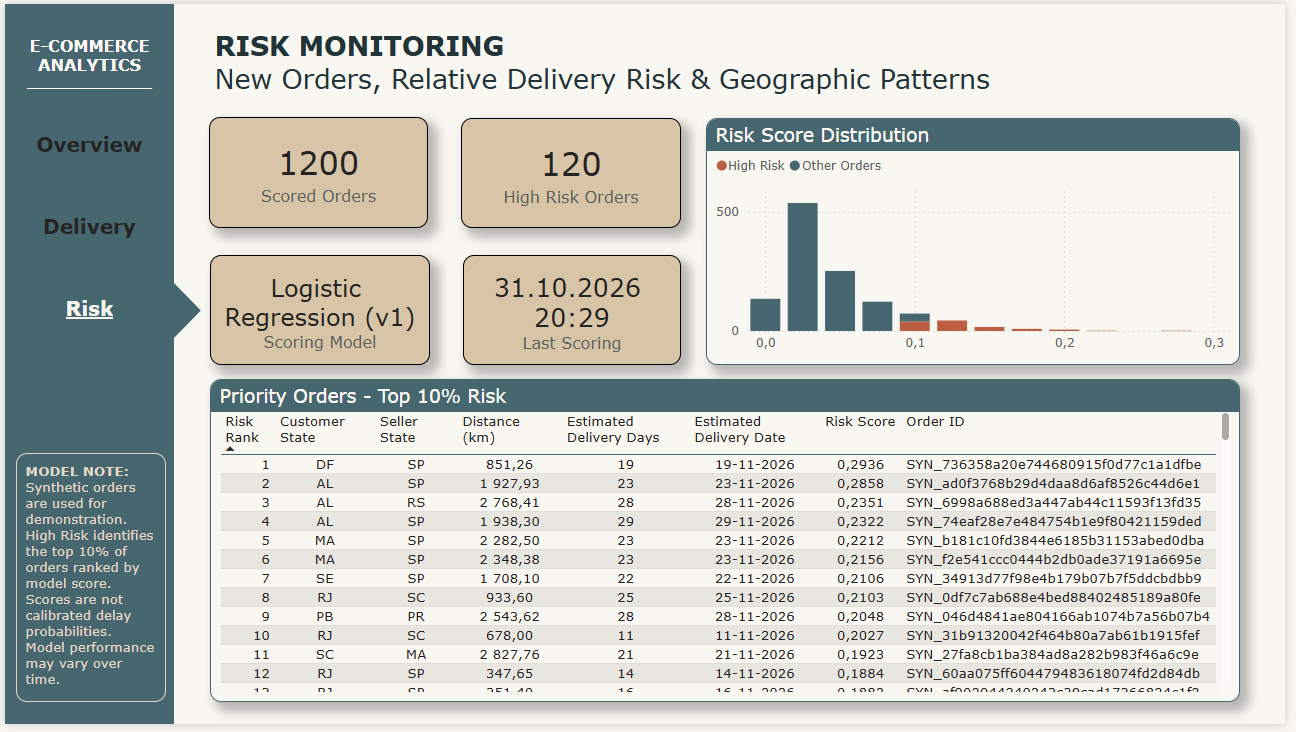

This screenshot's page, from the dashboard's own definition file:
{"tool":"powerbi","page":{"name":"Risk","canvas":[1280,720],"ordinal":2},"visuals":[{"type":"group","id":"g1","title":"Grupa 2","box":[0,0,195.5,720.4],"z":0},{"type":"shape","box":[127.4,271.4,68.2,70.8],"z":0,"group":"g1"},{"type":"shape","box":[0,0,168.5,720.4],"z":1000,"group":"g1"},{"type":"card","fields":{"Values":["_Measures.Scored Orders"]},"box":[203.9,113.3,219.5,110.4],"z":1000},{"type":"textbox","box":[205,20,856.2,83.8],"z":2000},{"type":"group","id":"g2","title":"Grupa 1","box":[16.7,27,136.4,70.8],"z":2000,"group":"g1"},{"type":"textbox","box":[16.7,27,136.4,69.5],"z":2000,"group":"g2"},{"type":"textbox","box":[16.7,61.7,136.4,36],"z":3000,"group":"g2"},{"type":"pageNavigator","box":[16.7,104.2,136.4,238],"z":3000,"group":"g1"},{"type":"card","fields":{"Values":["_Measures.High Risk Orders"]},"box":[456.2,113.8,220,110],"z":3000},{"type":"card","fields":{"Values":["_Measures.Scoring Model"]},"box":[205,251.2,220,110],"z":4000},{"type":"columnChart","title":"Risk Score Distribution","fields":{"Category":["RiskMonitoring.Risk Score Bins"],"Y":["_Measures.Scored Orders"],"Series":["RiskMonitoring.risk_category"]},"box":[701.2,113.8,533.8,247.5],"z":5000},{"type":"tableEx","title":"Priority Orders - Top 10% Risk","fields":{"Values":["RiskMonitoring.risk_rank","RiskMonitoring.customer_state","RiskMonitoring.seller_state","RiskMonitoring.distance_km","RiskMonitoring.estimated_delivery_days","RiskMonitoring.estimated_delivery_date","RiskMonitoring.risk_score","RiskMonitoring.order_id"]},"box":[205,375,1030,322.5],"z":6000},{"type":"card","fields":{"Values":["_Measures.Last Scoring"]},"box":[457.5,251.2,218.8,110],"z":7000},{"type":"textbox","box":[11.2,448.8,150,248.8],"z":8000}]}

Visuals, with their boxes in screenshot pixels (x1, y1, x2, y2), scaled from the page's 1280x720 canvas onto the 1296x732 screenshot:
"Grupa 2" group: box(0, 0, 198, 731)
shape: box(129, 276, 198, 348)
shape: box(0, 0, 171, 731)
card - _Measures.Scored Orders: box(206, 115, 429, 227)
textbox: box(208, 20, 1074, 106)
"Grupa 1" group: box(17, 27, 155, 99)
textbox: box(17, 27, 155, 98)
textbox: box(17, 63, 155, 99)
pageNavigator: box(17, 106, 155, 348)
card - _Measures.High Risk Orders: box(462, 116, 685, 228)
card - _Measures.Scoring Model: box(208, 255, 430, 367)
"Risk Score Distribution" columnChart: box(710, 116, 1250, 367)
"Priority Orders - Top 10% Risk" tableEx: box(208, 381, 1250, 709)
card - _Measures.Last Scoring: box(463, 255, 685, 367)
textbox: box(11, 456, 163, 709)
